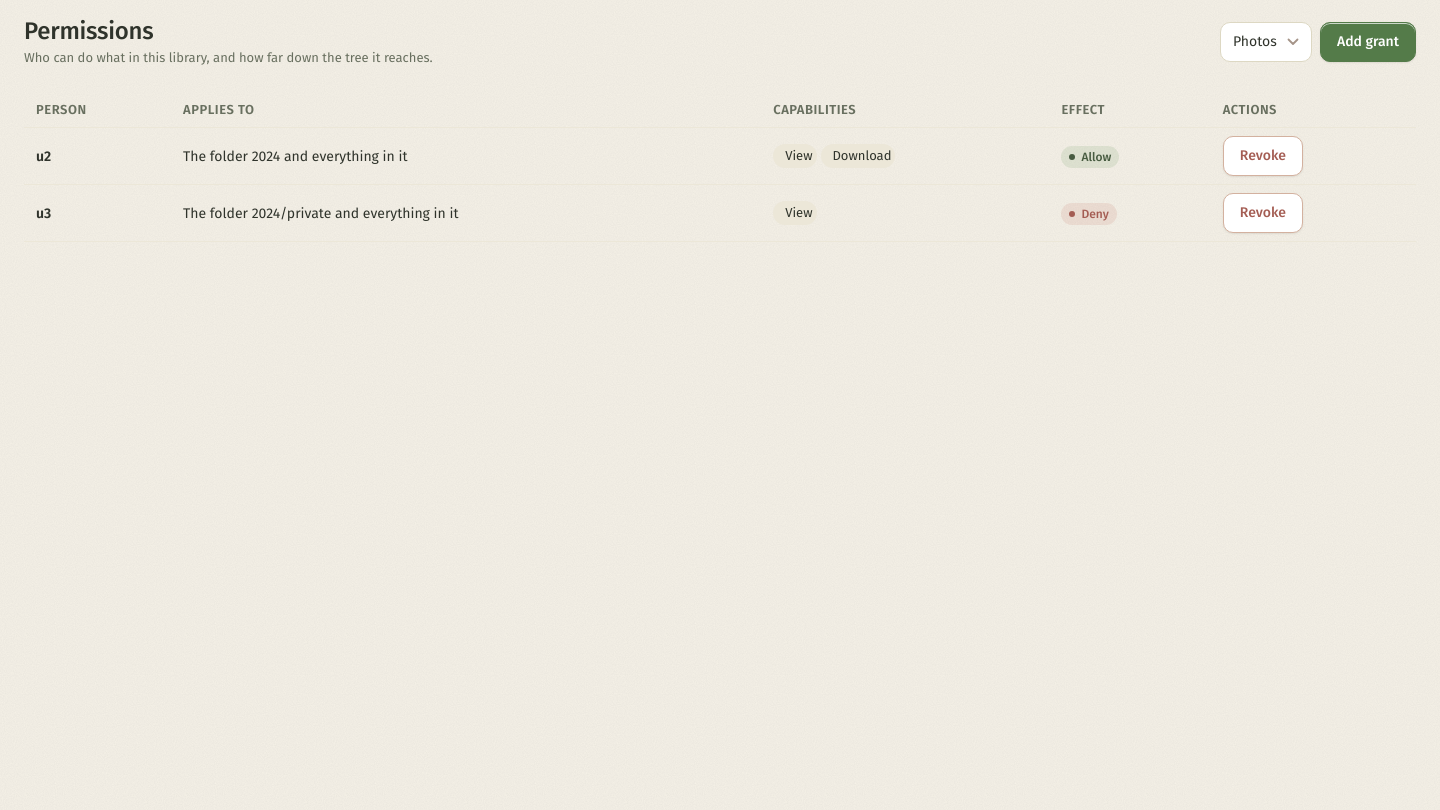
PermissionsPage › falls back to a typed user id when the user list is not readable
This screenshot has width=1440, height=810.
Expected: the column heading "u2" is shown, x1=24 y1=128 x2=171 y2=184
Click the button with test id "new-grant-button": x=1368, y=42 x1=1320 y1=22 x2=1416 y2=62
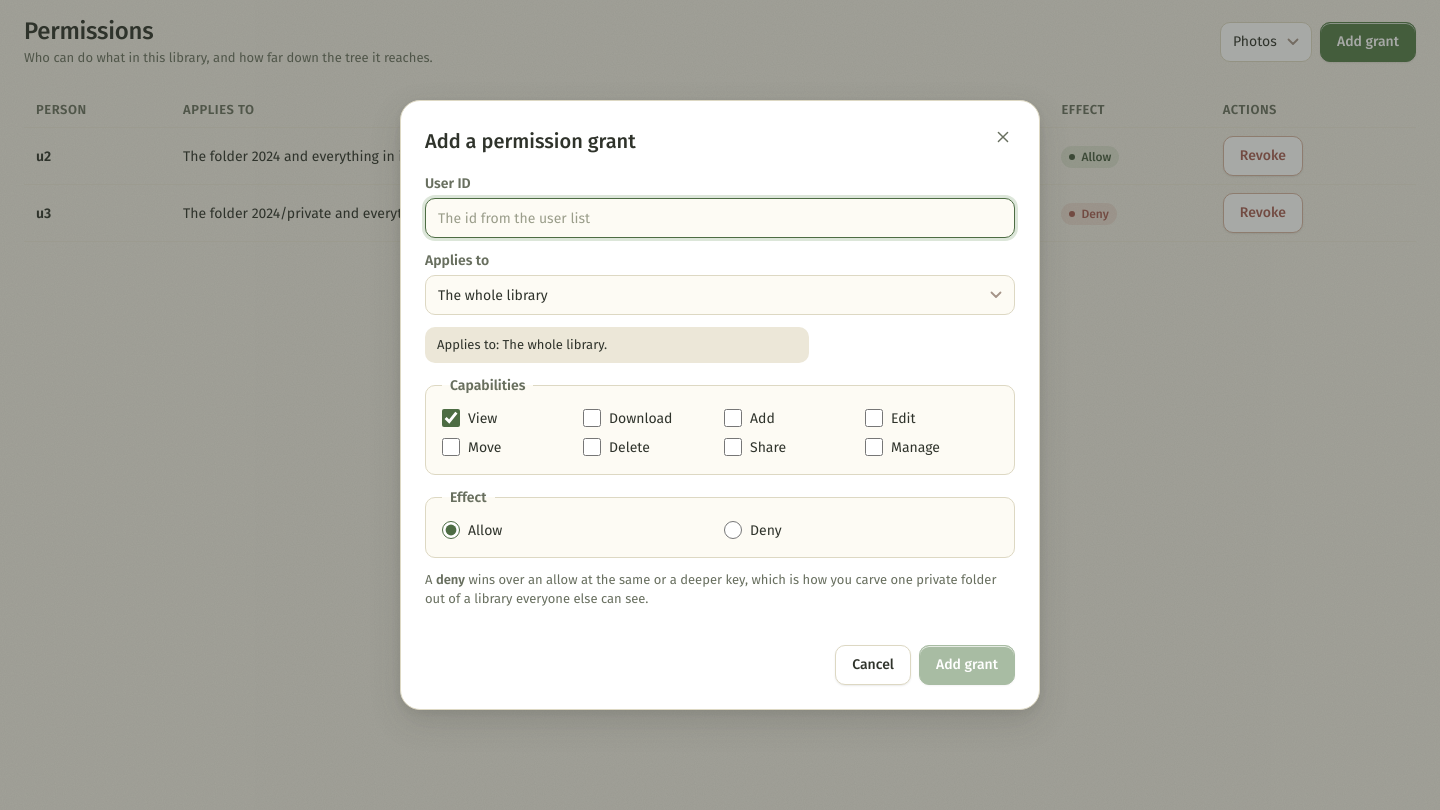
Now the field with test id "grant-user-id" is shown, box x1=425 y1=198 x2=1015 y2=238
